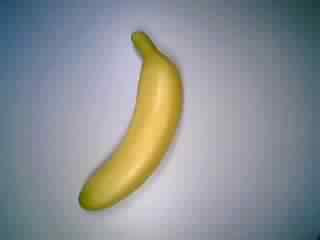banana: (73, 27, 188, 214)
